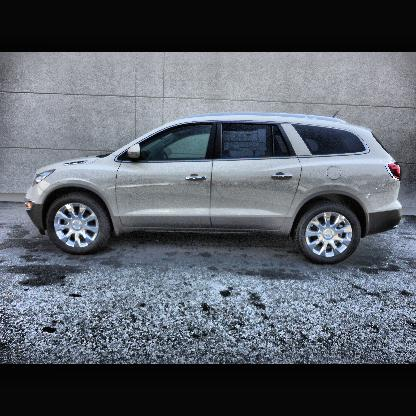Buick Enclave SUV 2012: (26, 110, 403, 265)
